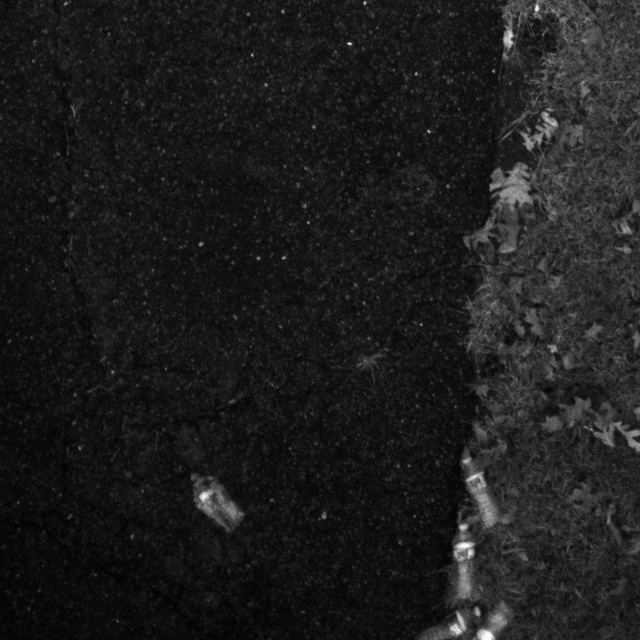bottle: (458, 449, 511, 535), (184, 470, 247, 534), (446, 506, 485, 606)
